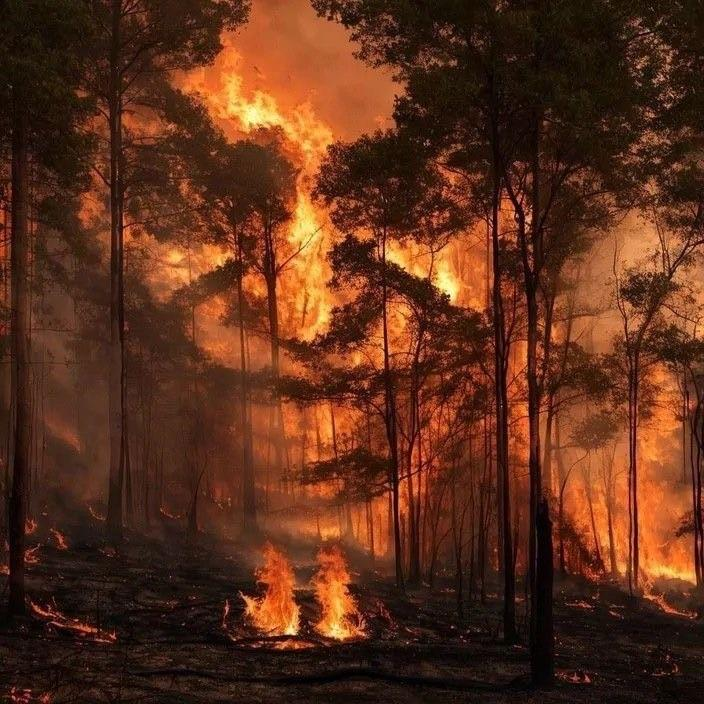fire: (92, 68, 423, 516), (225, 555, 381, 649)
